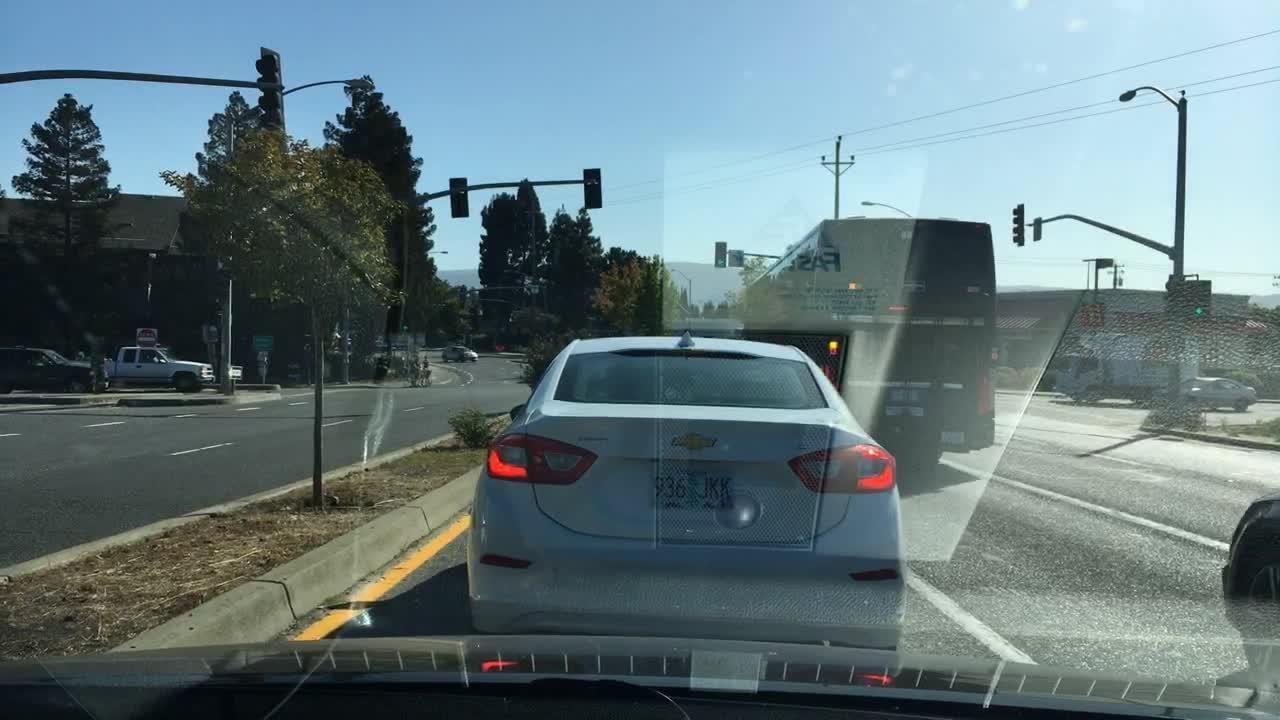chevrolet: (665, 425, 725, 459)
